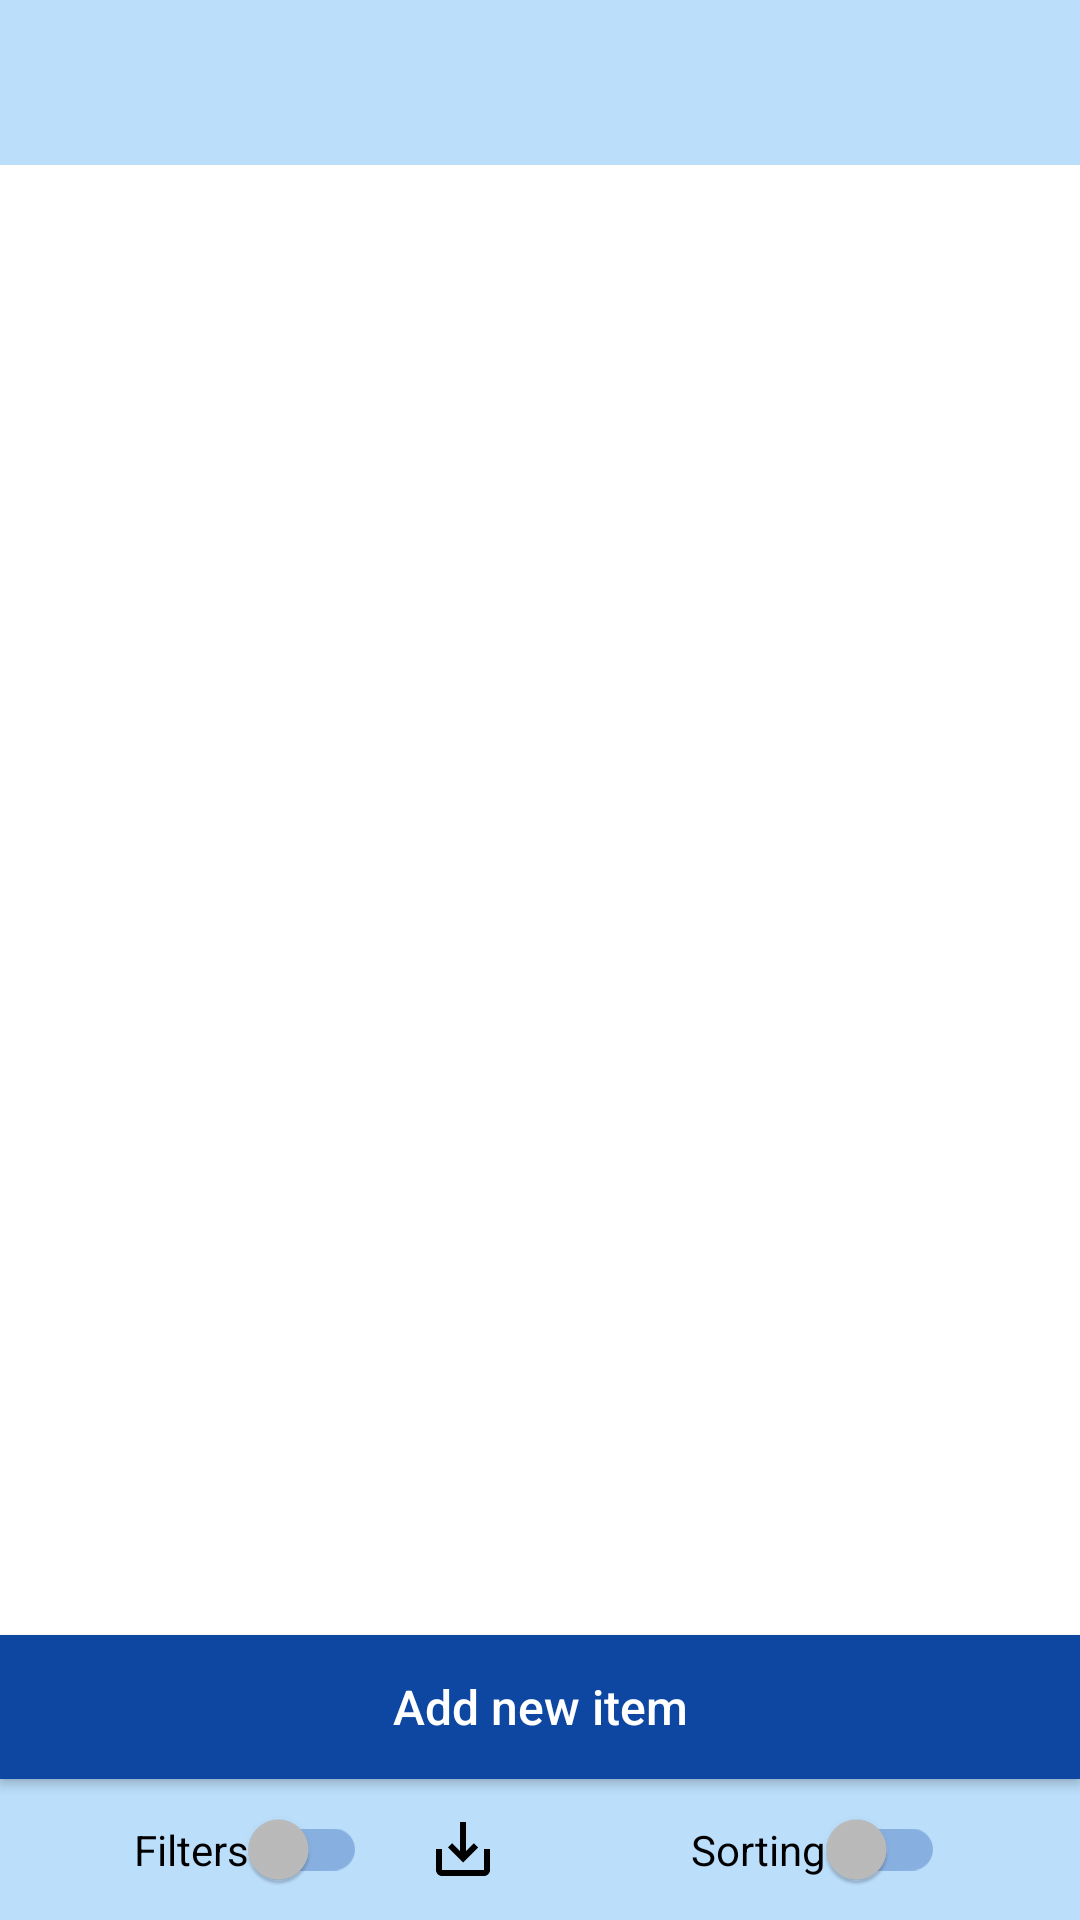

Point at icon controls on the screen. Image size 1080x1920, points as (x=x, y=y).
import file: (x=463, y=1849)
